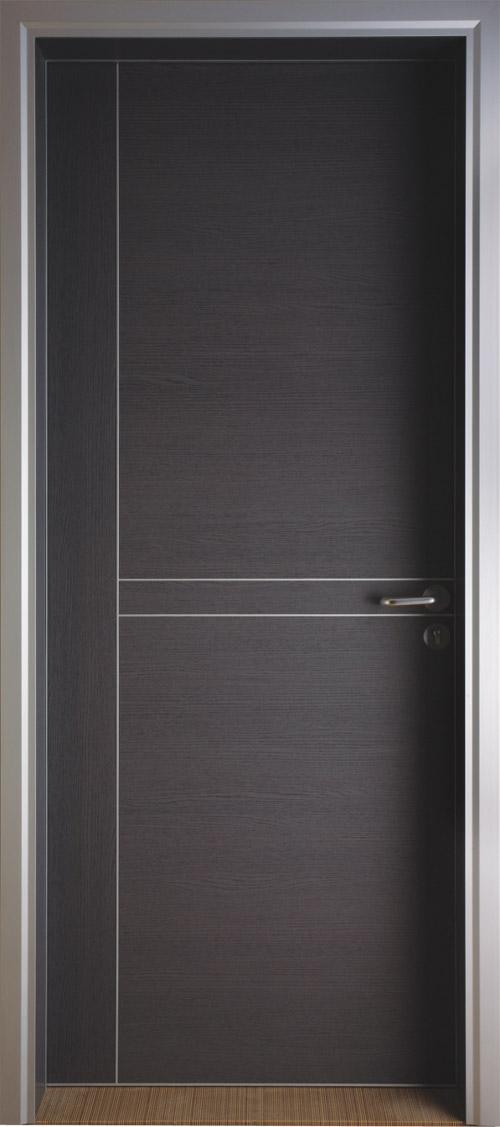door: (52, 53, 455, 1082)
